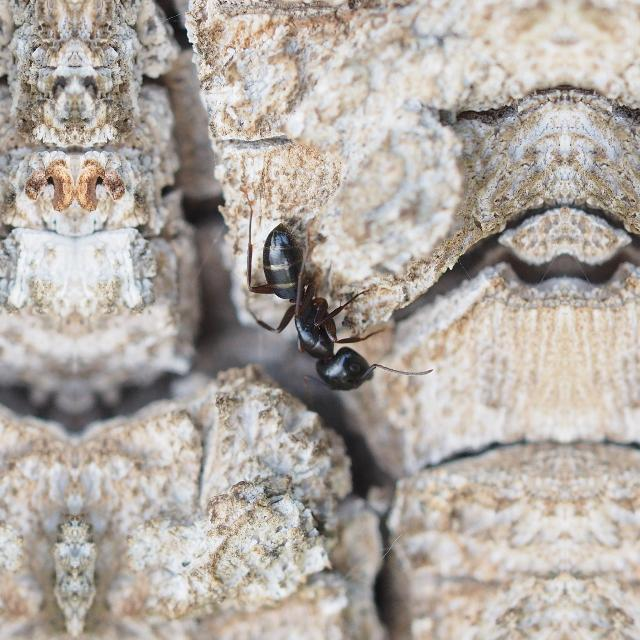Camponotus: (226, 198, 392, 422)
